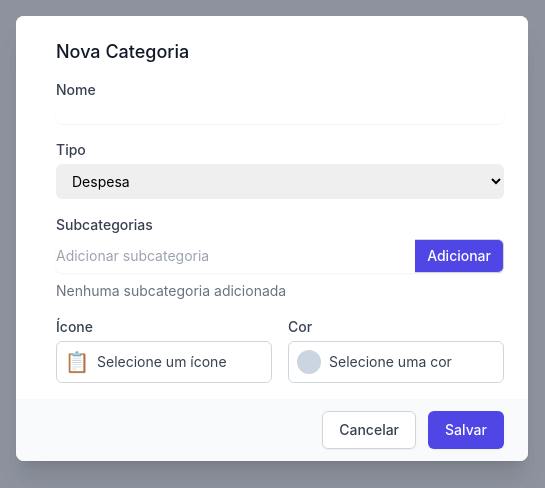
Test: CategoryForm › adiciona subcategoria quando Enter é pressionado
The image size is (545, 488).
Type "Subcategoria Enter" into the field with placeholder "Adicionar subcategoria" at point(236, 256), box x1=56 y1=238 x2=415 y2=272
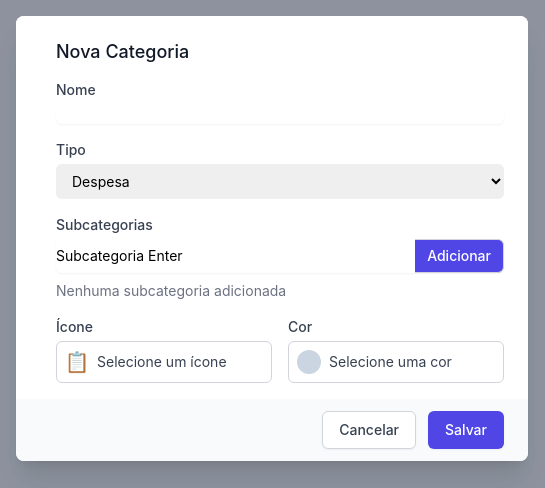
Press Enter in the field with placeholder "Adicionar subcategoria", box x1=56 y1=238 x2=415 y2=272
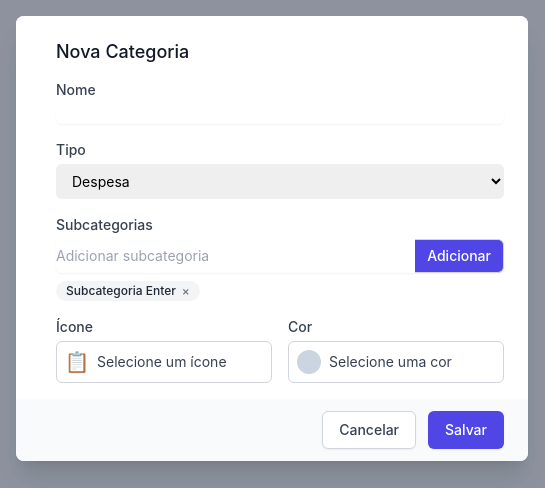
Now the text "Subcategoria Enter" is shown, box x1=66 y1=282 x2=176 y2=298
